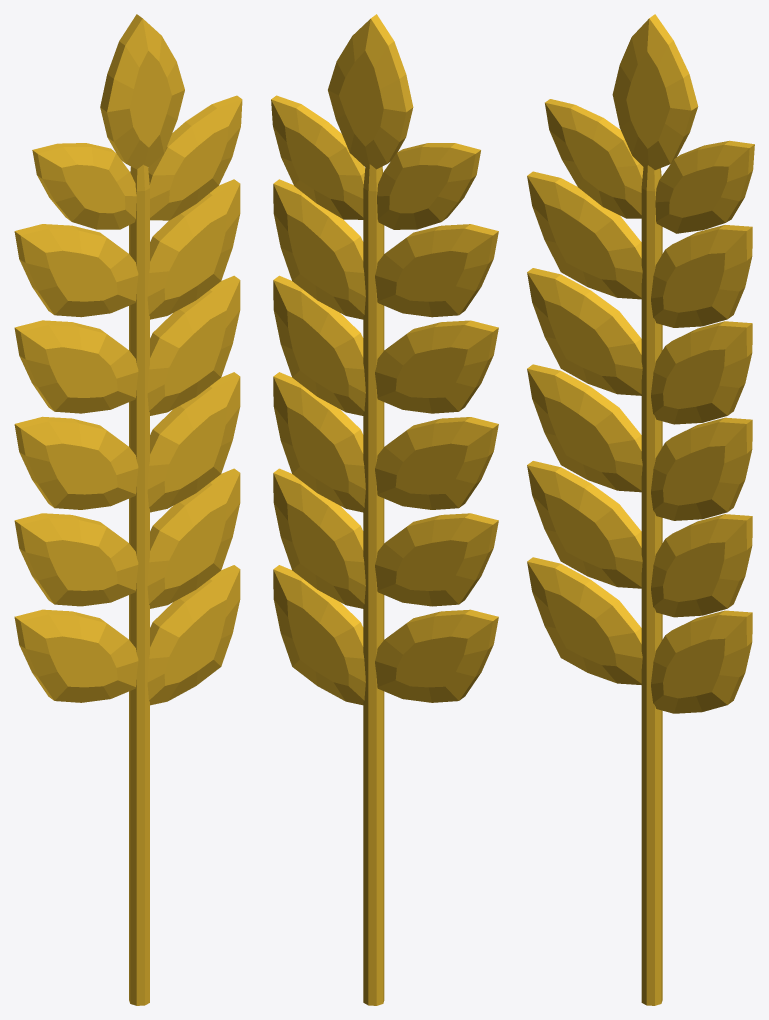
The model's file is wheat.glb.
3 views of the same model, side by side, from view 1: azimuth 30°, elevation 25°; view 2: azimuth 150°, elevation 25°; view 3: azimuth 330°, elevation 25° (orthographic).
Parts seen in each view (by area): view 1: wheat; view 2: wheat; view 3: wheat.
Part boxes in pixels (x1=…): wheat: x1=14, y1=14, x2=242, y2=1005; wheat: x1=271, y1=14, x2=498, y2=1005; wheat: x1=527, y1=14, x2=754, y2=1005.
Bounding box in the file's own units: 0.6669 × 2.82 × 0.0827.
Materials: 1 (1 with a texture image).
